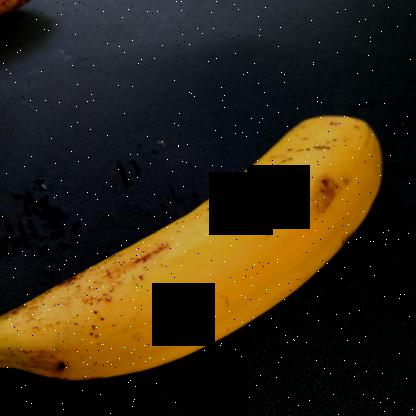ripe: (0, 100, 411, 404)
